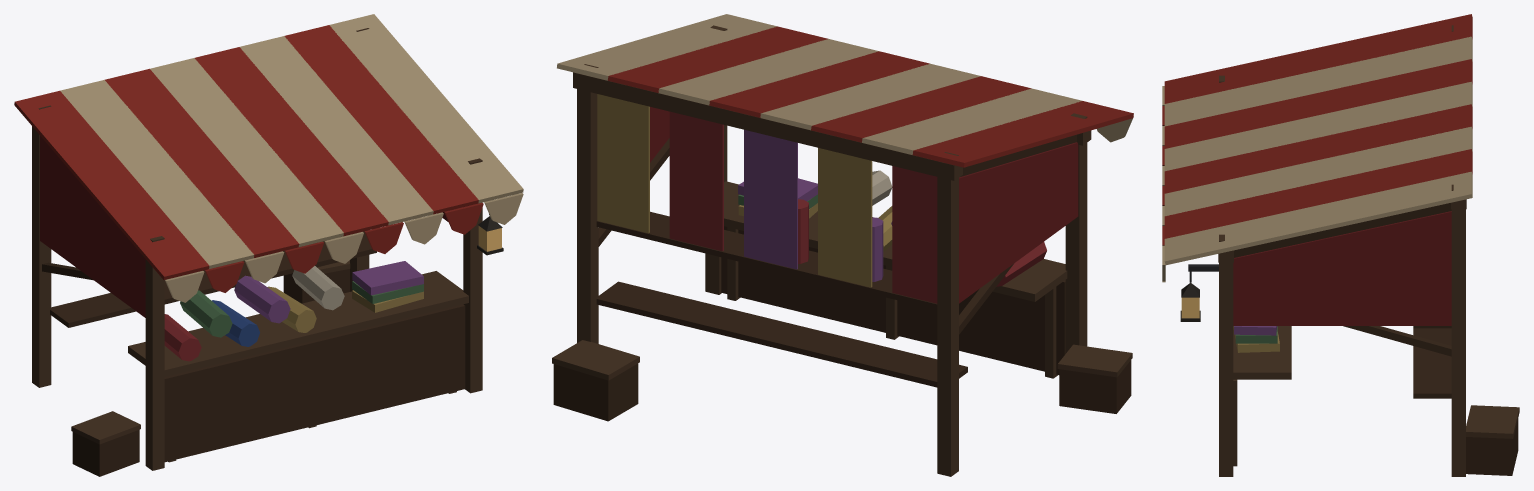
File: market-stall-cloth.glb
3 renders of one model, left to right at view 1: azimuth 30°, elevation 25°; view 2: azimuth 150°, elevation 25°; view 3: azimuth 270°, elevation 25°, orthographic. The views are drawn at different scales.
Parts seen in each view (by area): view 1: market-stall-cloth; view 2: market-stall-cloth; view 3: market-stall-cloth.
Part boxes in pixels (x1,y1,x2,y2): market-stall-cloth: [14, 14, 523, 476]; market-stall-cloth: [552, 14, 1133, 476]; market-stall-cloth: [1162, 14, 1519, 476].
Bounding box in the file's own units: 4.26 × 2.89 × 3.22.
